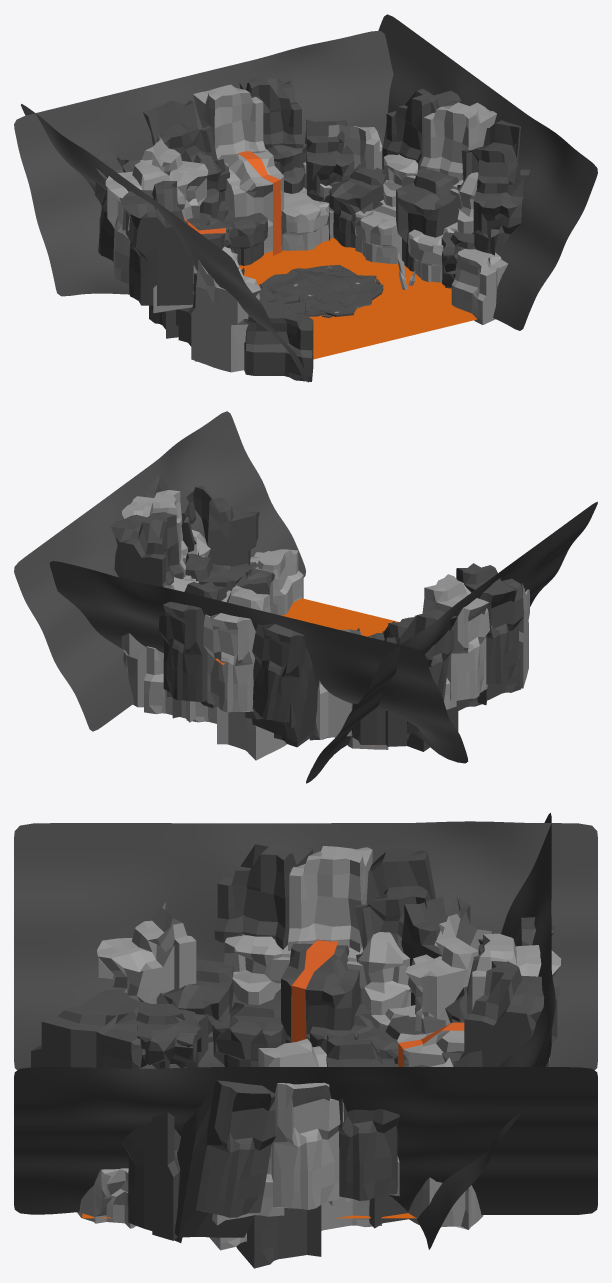
Rendered from lava2.fbx.
3 renders of one model, top to bottom at view 1: azimuth 30°, elevation 25°; view 2: azimuth 150°, elevation 25°; view 3: azimuth 270°, elevation 25°, orthographic. The views are drawn at different scales.
Visible parts, largest first — view 1: Rocks4, BackgroundSurface, Lava, MainPlatform, LavaFall2; view 2: Rocks4, BackgroundSurface, Lava; view 3: Rocks4, BackgroundSurface, LavaFall1.
Boxes of the visible parts, x1,y1,x2,y2 form: Rocks4: (95,74,530,381); BackgroundSurface: (14,14,597,382); Lava: (239,237,477,359); MainPlatform: (259,265,383,317); LavaFall2: (238,151,281,255); Rocks4: (110,476,529,760); BackgroundSurface: (14,411,597,783); Lava: (281,598,399,746); Rocks4: (31,839,561,1268); BackgroundSurface: (14,813,597,1249); LavaFall1: (291,940,337,1042).
Bounding box in the file's own units: 47873 × 21567 × 44613.
